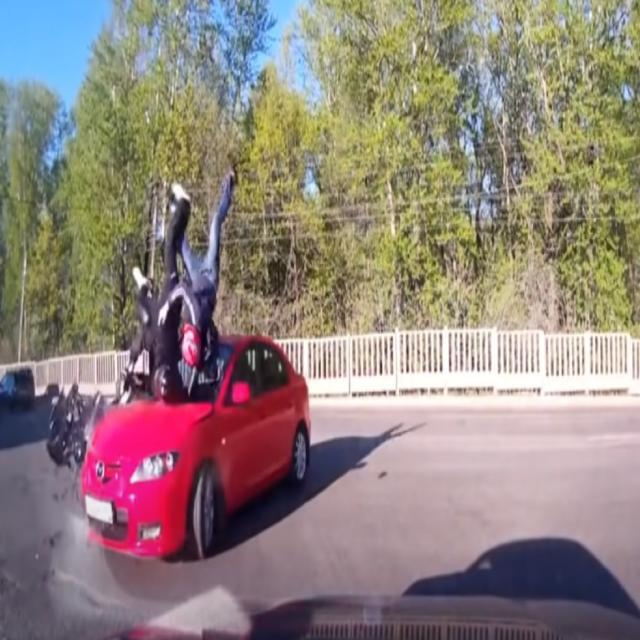accident: (40, 168, 314, 566)
